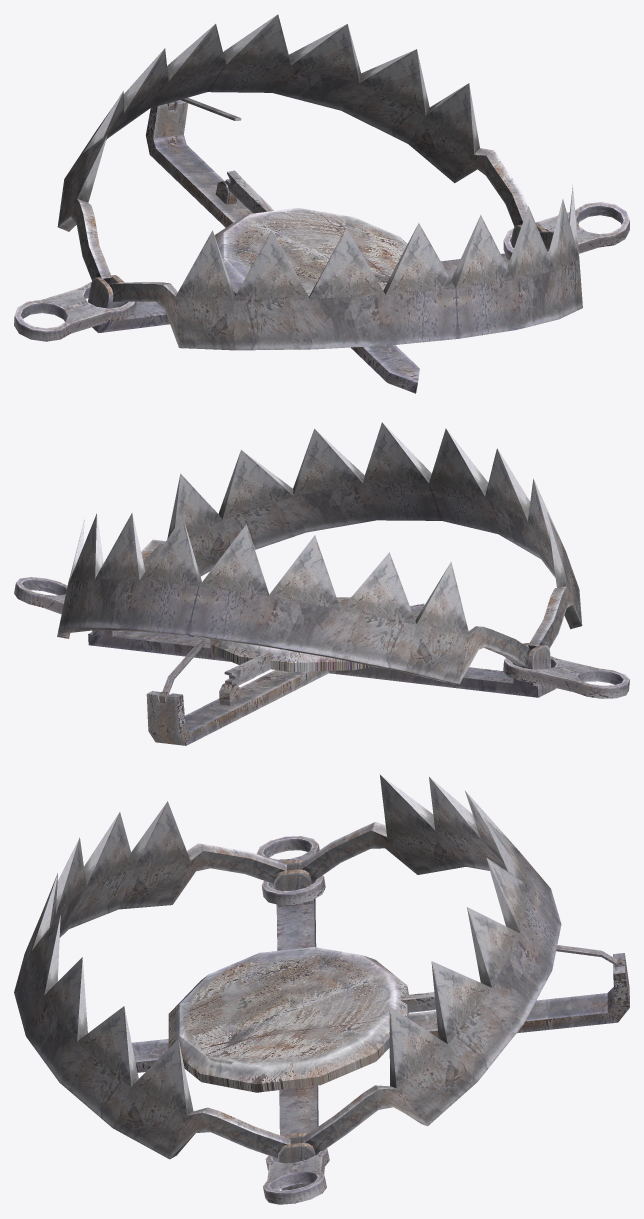
3 renders of one model, top to bottom at view 1: azimuth 30°, elevation 25°; view 2: azimuth 150°, elevation 25°; view 3: azimuth 270°, elevation 25°, orthographic. The views are drawn at different scales.
Parts seen in each view (by area): view 1: Trap_LeftSide, Trap_RightSide, Trap_Cross, Trap_Center, Trap_1, Trap_4; view 2: Trap_RightSide, Trap_LeftSide, Trap_Cross, Trap_1, Trap_Center, Trap_4, Trap_3; view 3: Trap_RightSide, Trap_LeftSide, Trap_Center, Trap_Cross, Trap_1.
Part boxes in pixels (x1=…): Trap_LeftSide: x1=109, y1=185, x2=582, y2=350; Trap_RightSide: x1=57, y1=14, x2=527, y2=283; Trap_Cross: x1=87, y1=100, x2=548, y2=393; Trap_Center: x1=214, y1=208, x2=407, y2=296; Trap_1: x1=14, y1=202, x2=629, y2=341; Trap_4: x1=225, y1=170, x2=273, y2=213; Trap_RightSide: x1=57, y1=513, x2=531, y2=684; Trap_LeftSide: x1=141, y1=422, x2=582, y2=649; Trap_Cross: x1=88, y1=603, x2=556, y2=745; Trap_1: x1=14, y1=577, x2=629, y2=698; Trap_Center: x1=210, y1=596, x2=420, y2=671; Trap_4: x1=224, y1=653, x2=273, y2=685; Trap_3: x1=162, y1=638, x2=209, y2=698; Trap_RightSide: x1=300, y1=774, x2=561, y2=1155; Trap_LeftSide: x1=14, y1=801, x2=290, y2=1159; Trap_Center: x1=168, y1=947, x2=408, y2=1092; Trap_Cross: x1=131, y1=860, x2=629, y2=1190; Trap_1: x1=256, y1=836, x2=329, y2=1204.
Size of the model in its own units: 150 by 56.59 by 124.
1 material, 1 textured.
